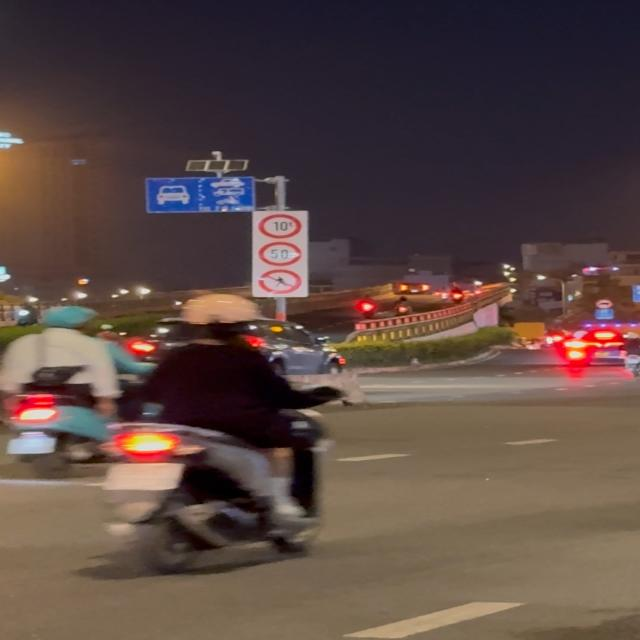Bien bao cam nguoi di bo: (256, 269, 304, 296)
Bien bao toc do toi da cho phep: (258, 242, 306, 266)
